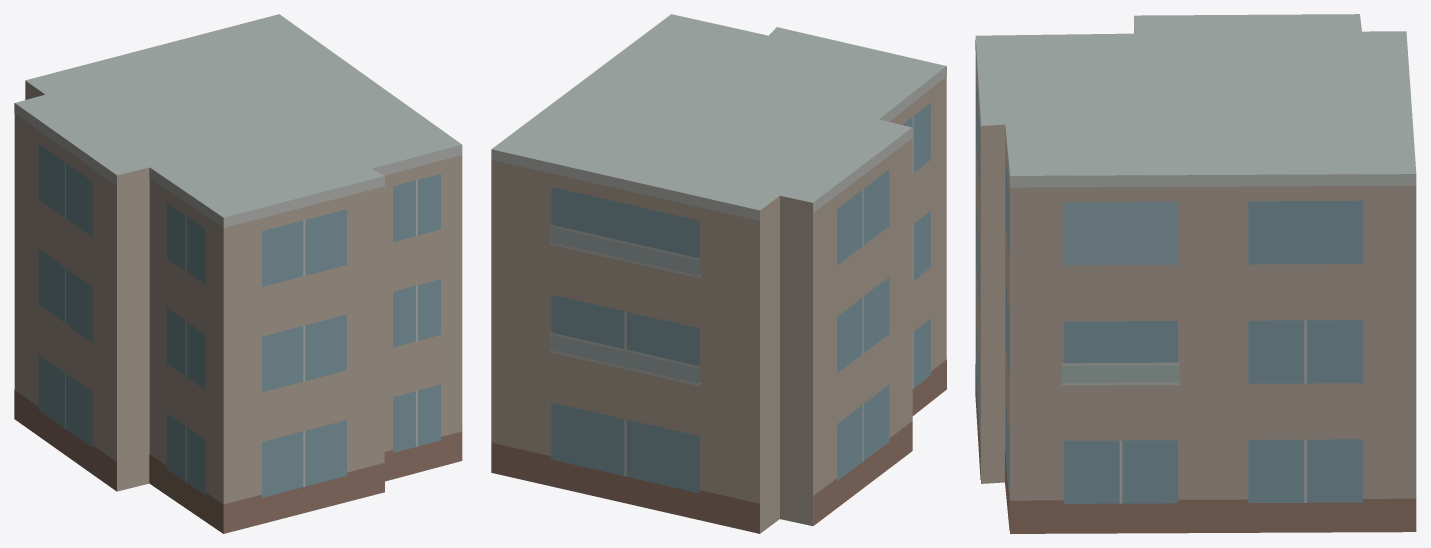
File: survey-upis-33004414.glb
3 views of the same model, side by side, from view 1: azimuth 30°, elevation 25°; view 2: azimuth 150°, elevation 25°; view 3: azimuth 270°, elevation 25° (orthographic). The views are drawn at different scales.
Parts seen in each view (by area): view 1: survey-upis-33004414.tmp; view 2: survey-upis-33004414.tmp; view 3: survey-upis-33004414.tmp.
Boxes of the visible parts, left/top/right/bottom form: survey-upis-33004414.tmp: left=14, top=14, right=462, bottom=533; survey-upis-33004414.tmp: left=491, top=14, right=946, bottom=533; survey-upis-33004414.tmp: left=975, top=14, right=1416, bottom=533.
Bounding box in the file's own units: 7.31 × 7.5 × 8.38.
